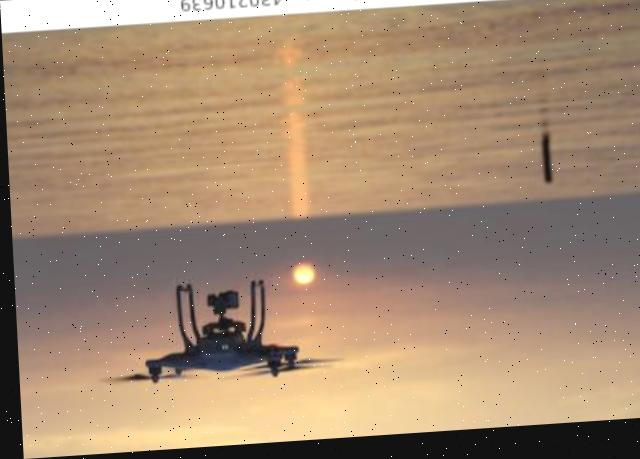drone: (86, 249, 347, 404)
